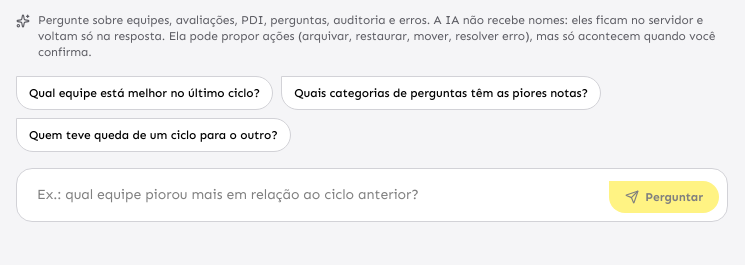
AssistantView › mostra sugestões de perguntas e envia a escolhida
Click the button "Qual equipe está melhor no último ciclo?": x=145, y=93 [16,76,273,110]
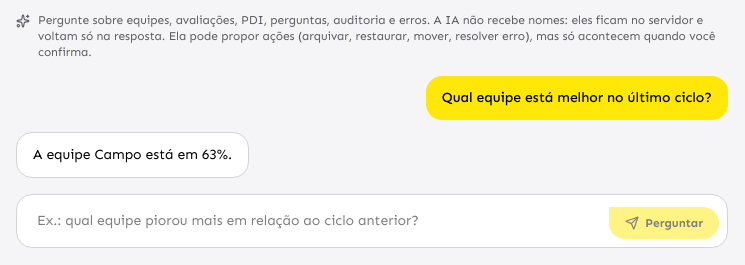
expect the text "A equipe Campo está em 63%." is shown: met, box [16,132,249,178]
